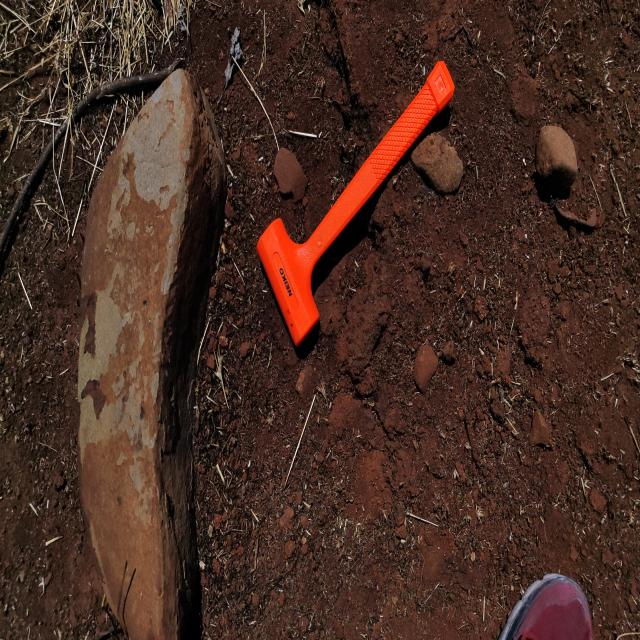Orange_hammer: (256, 57, 455, 350)
